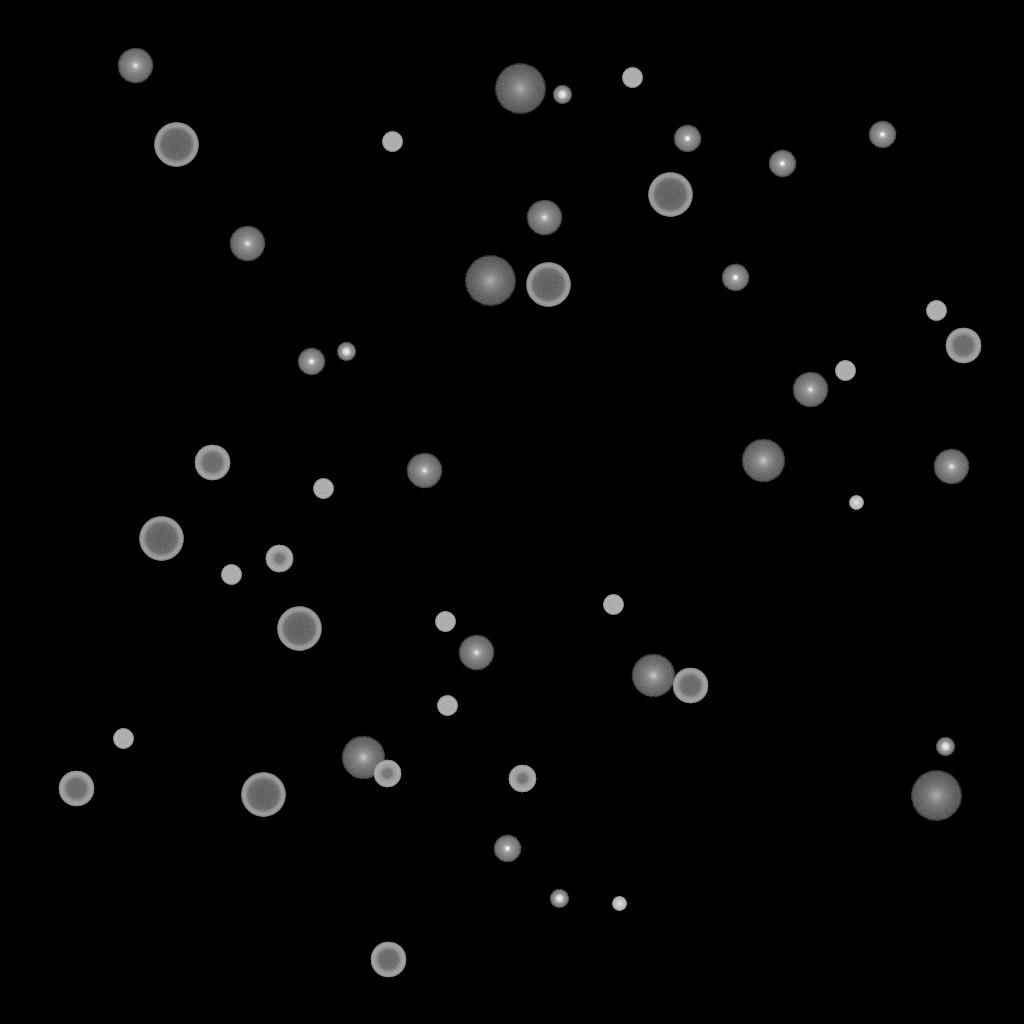depth:-10: (721, 264, 749, 292), (493, 835, 521, 863), (673, 125, 701, 153), (297, 348, 325, 376), (868, 121, 896, 149), (768, 150, 796, 178)
depth:-20: (550, 890, 568, 908), (337, 343, 355, 361), (553, 86, 571, 104), (936, 738, 954, 756)
depth:-30: (849, 496, 863, 510), (612, 897, 626, 911)
depth:-40: (221, 565, 241, 585), (382, 132, 402, 152), (622, 68, 642, 88), (113, 729, 133, 749), (313, 479, 333, 499), (603, 595, 623, 615), (435, 612, 455, 632), (835, 361, 855, 381), (926, 301, 946, 321), (437, 696, 457, 716)
depth:-50: (373, 760, 401, 788), (508, 765, 536, 793), (265, 545, 293, 573)
depth:-60: (194, 445, 230, 481), (672, 668, 708, 704), (58, 771, 94, 807), (370, 942, 406, 978), (945, 328, 981, 364)
depth:-70: (241, 773, 285, 817), (154, 123, 198, 167), (648, 173, 692, 217), (526, 263, 570, 307), (277, 607, 321, 651), (139, 517, 183, 561)
depth:0: (229, 226, 265, 262), (458, 635, 494, 671), (933, 449, 969, 485), (526, 200, 562, 236), (406, 453, 442, 489), (792, 372, 828, 408), (117, 48, 153, 84)
depth:10: (341, 736, 385, 780), (741, 439, 785, 483), (631, 654, 675, 698)
depth:20: (464, 256, 516, 306), (910, 771, 962, 821), (494, 64, 546, 114)
